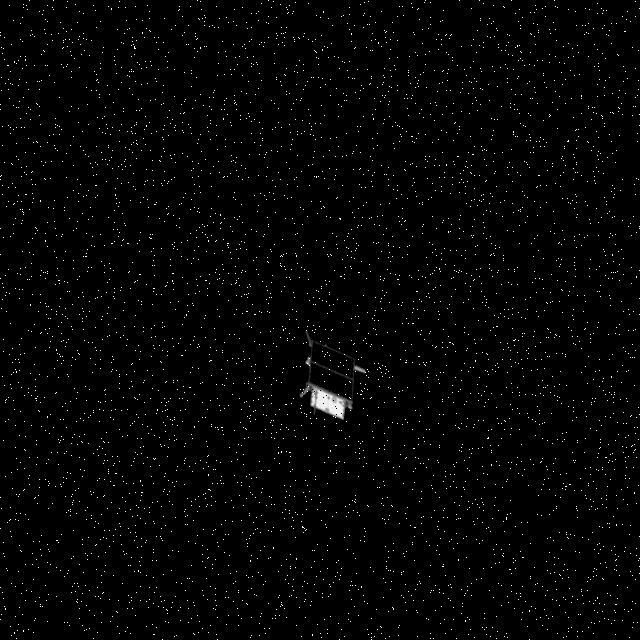medium_debris: (292, 338, 396, 424)
